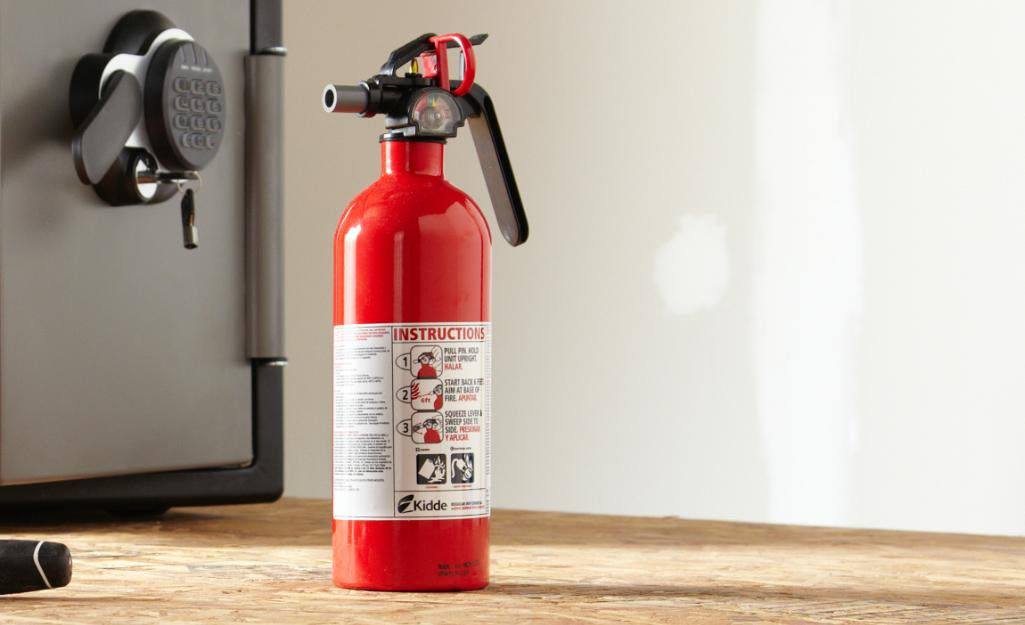floor-kept: (295, 24, 575, 606)
